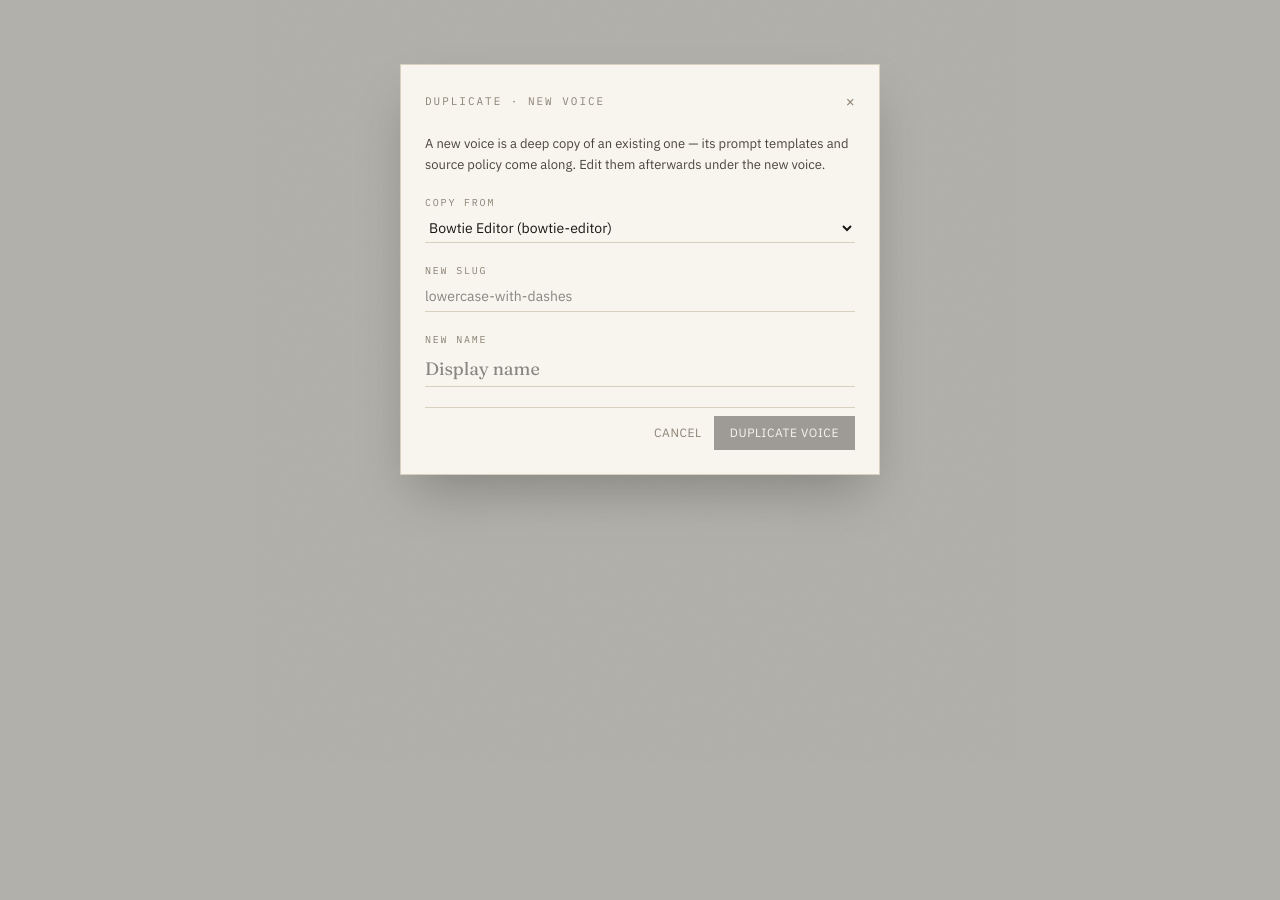
DuplicateVoiceDialog › surfaces a 409 duplicate-slug error from the server
Type "taken" into the field labelled "New slug". click: (640, 297)
box: [425,282,855,312]
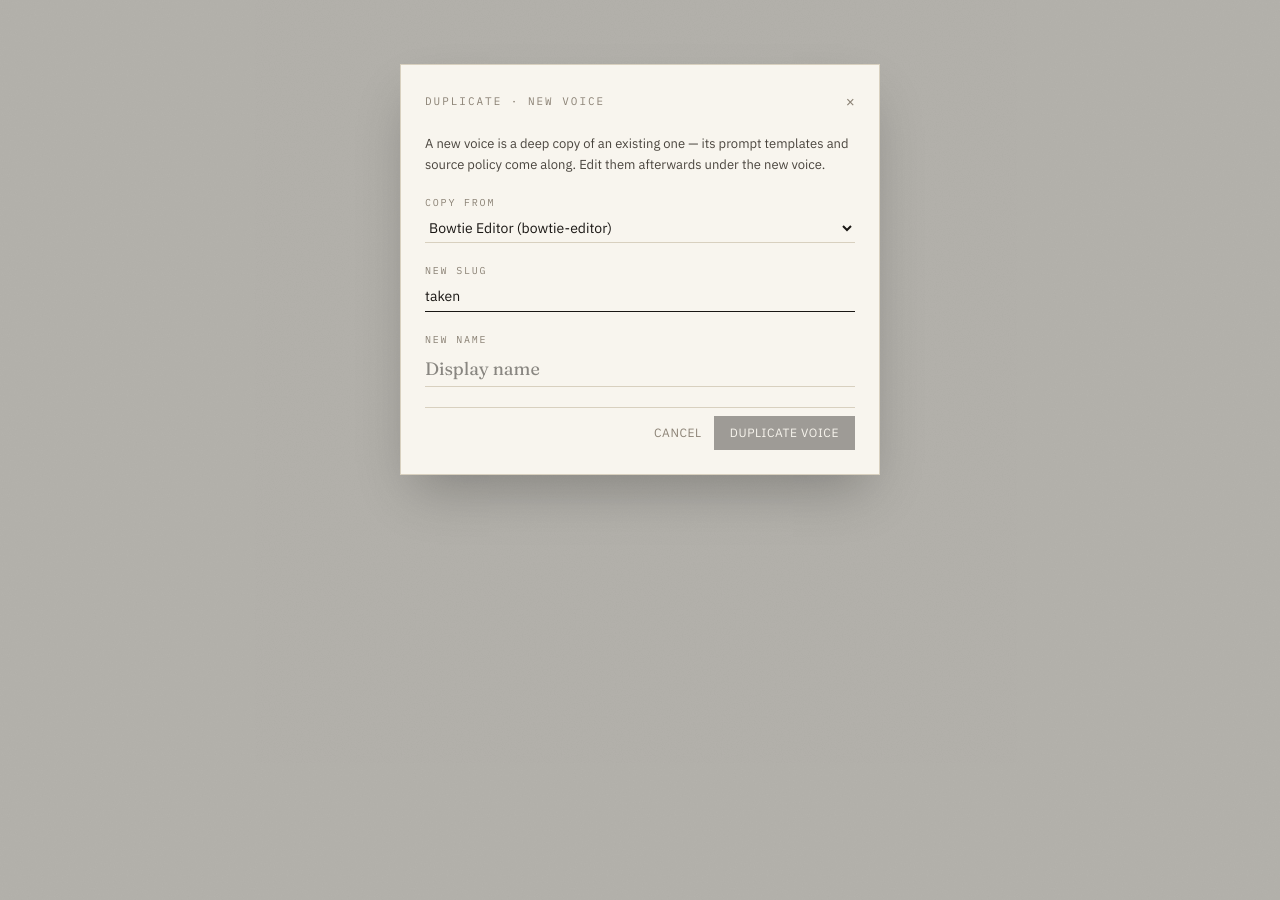
Type "Taken Voice" into the field labelled "New name". click: (640, 369)
box: [425,351,855,387]
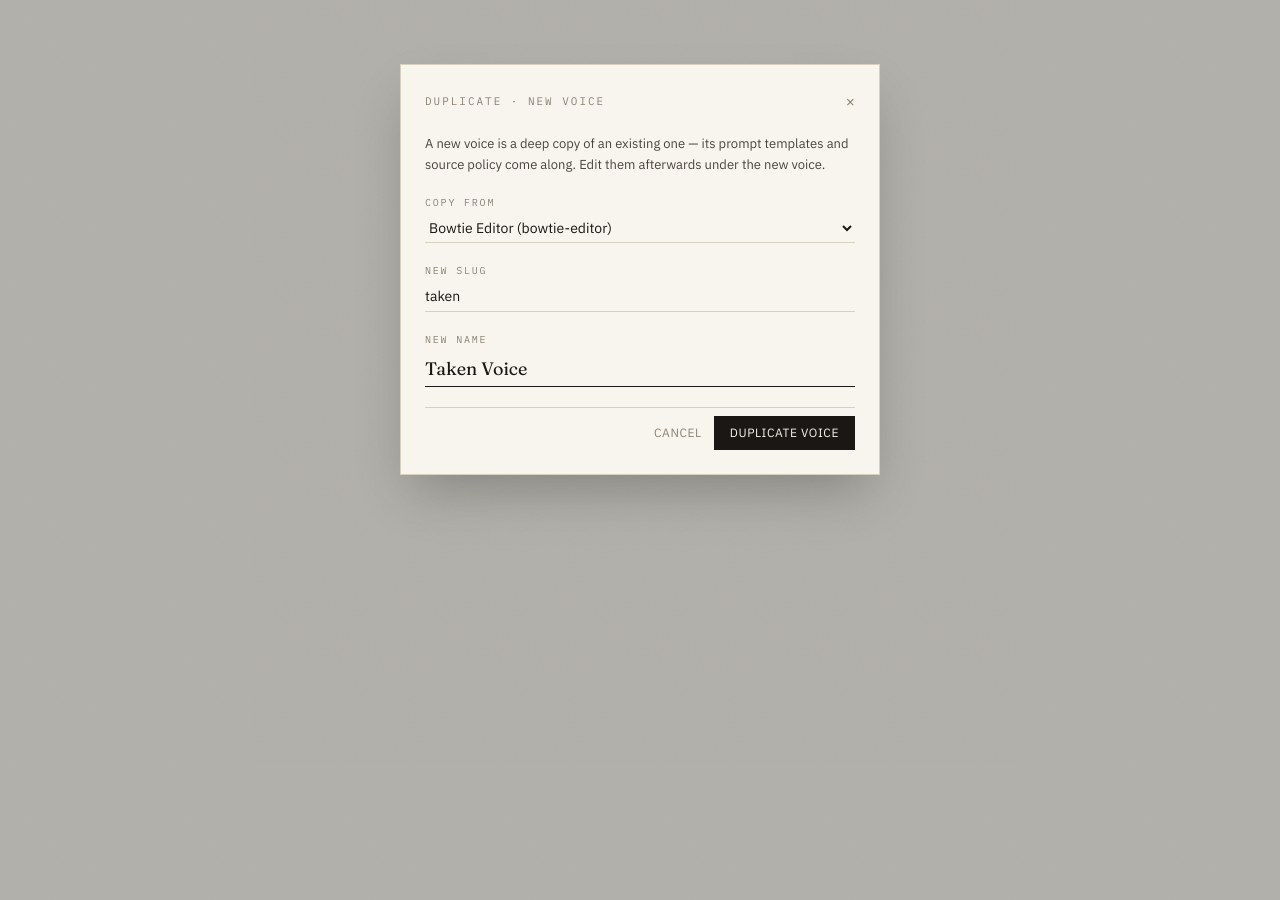
Click the button "Duplicate voice". click: (784, 433)
box: [714,416,855,450]
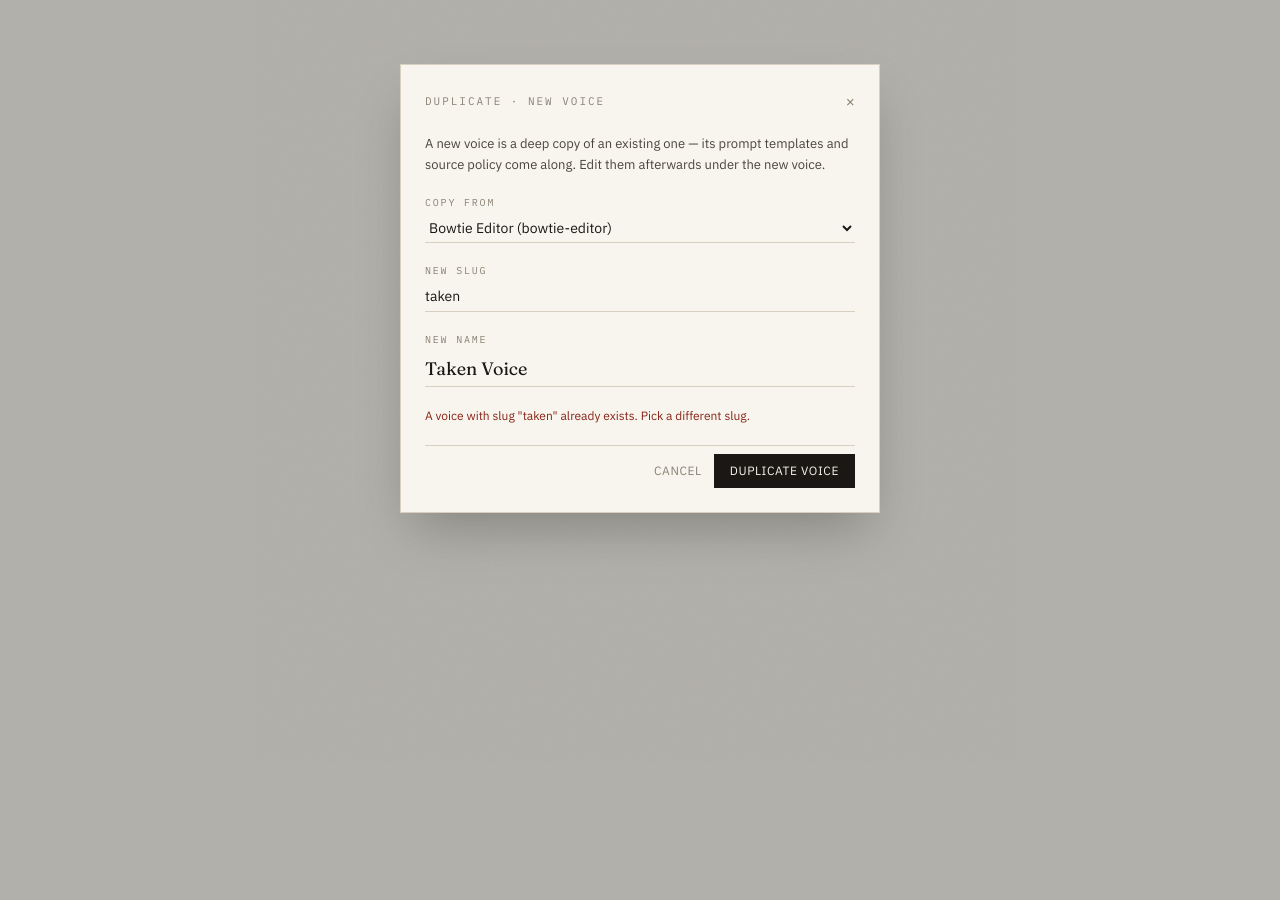
Now the message shows "already exists", box [425,408,750,423]
